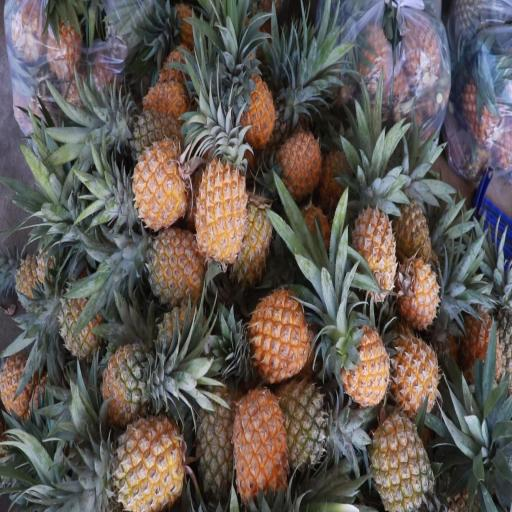------------------------------: (364, 395, 432, 512), (192, 362, 244, 504), (274, 375, 343, 471), (92, 340, 169, 426), (53, 266, 105, 362), (118, 102, 178, 162)
Pineapple - v8 v1: (106, 407, 187, 512), (230, 377, 289, 512), (244, 286, 310, 389), (194, 140, 247, 265), (136, 218, 207, 308), (350, 186, 400, 309), (127, 138, 190, 232), (337, 312, 394, 415), (226, 176, 273, 290), (384, 318, 436, 416), (269, 122, 324, 205), (387, 166, 432, 260), (388, 244, 439, 326), (232, 66, 274, 150)
